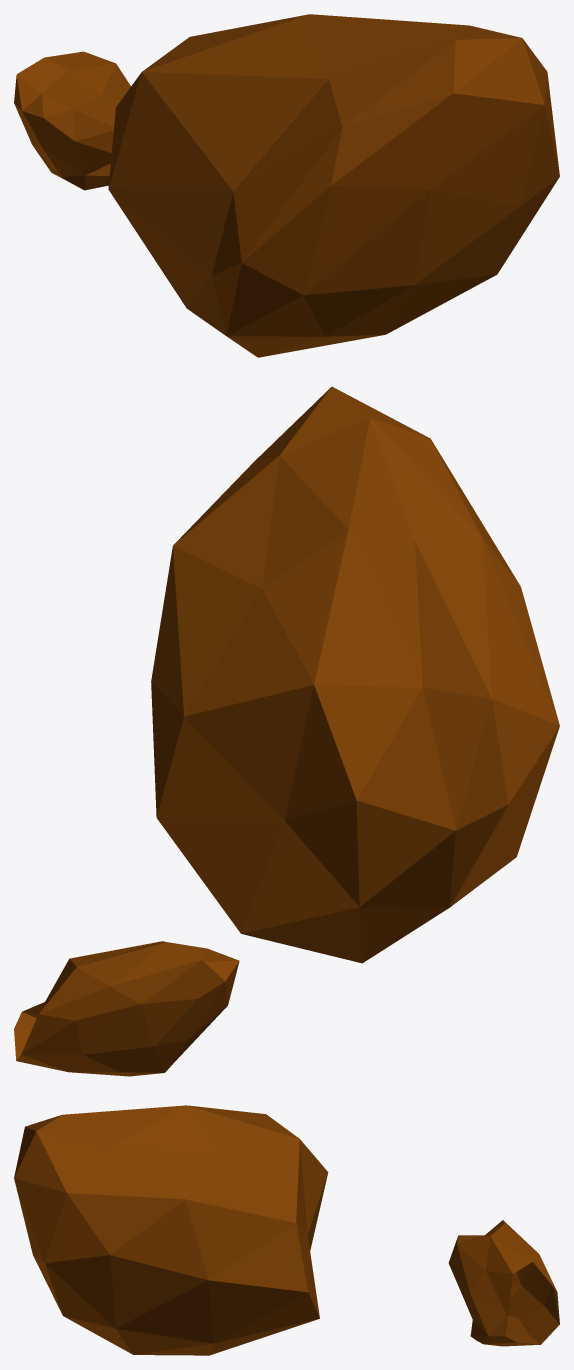
The model's file is Rock8.obj.
3 views of the same model, one above another, from view 1: azimuth 30°, elevation 25°; view 2: azimuth 150°, elevation 25°; view 3: azimuth 270°, elevation 25° (orthographic). The views are drawn at different scales.
Parts seen in each view (by area): view 1: Icosphere.012; view 2: Icosphere.012; view 3: Icosphere.012.
Boxes of the visible parts, box(x1,y1,x2,y2) form: Icosphere.012: box(14, 14, 559, 357); Icosphere.012: box(14, 386, 559, 1076); Icosphere.012: box(14, 1105, 559, 1355).
Size of the model in its own units: 1.33 by 1.37 by 2.59.
Materials: 1 (1 with a texture image).
